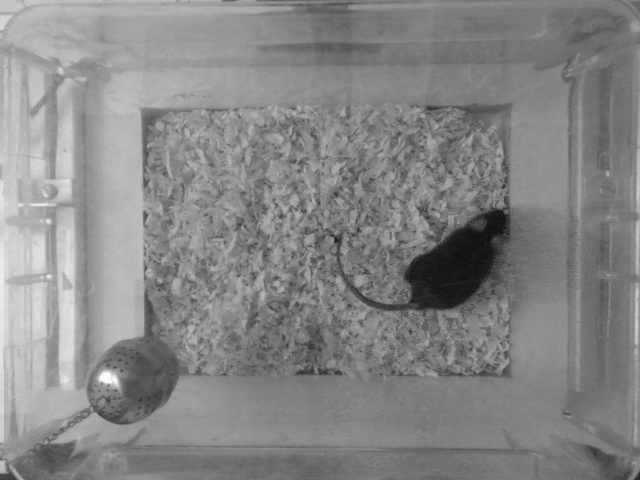mice: (332, 201, 515, 315)
